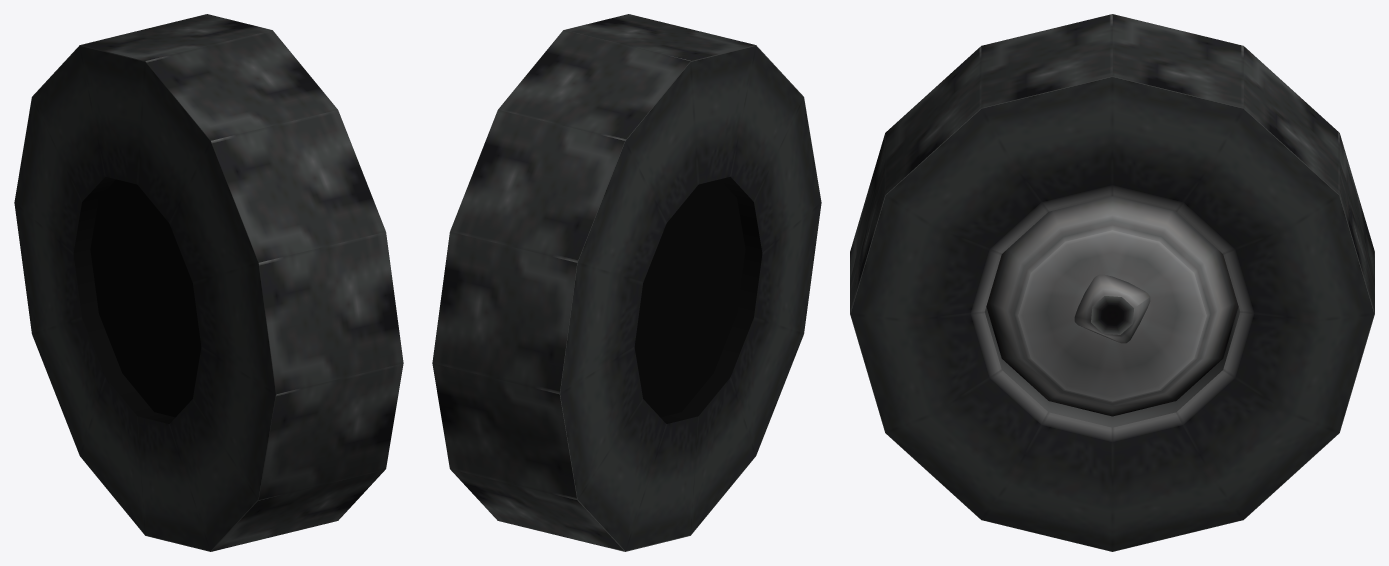
File: wheel_or1.glb
3 renders of one model, left to right at view 1: azimuth 30°, elevation 25°; view 2: azimuth 150°, elevation 25°; view 3: azimuth 270°, elevation 25°, orthographic.
Parts seen in each view (by area): view 1: wheel_or1; view 2: wheel_or1; view 3: wheel_or1.
Boxes of the visible parts, <box> form: wheel_or1: <box>14,14,403,551</box>; wheel_or1: <box>432,14,821,551</box>; wheel_or1: <box>850,14,1374,551</box>.
Bounding box in the file's own units: 0.324 × 0.9894 × 0.9894.
4 materials, 3 textured.
